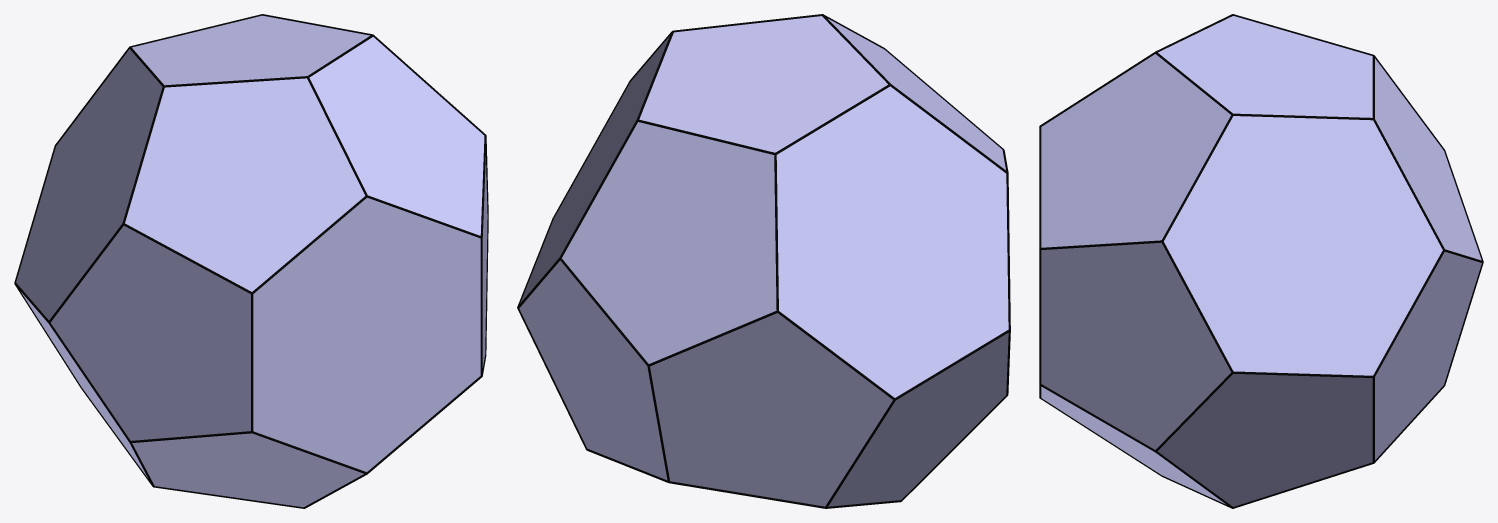
Rendered from quiz_106.dae.
3 views of the same model, side by side, from view 1: azimuth 30°, elevation 25°; view 2: azimuth 150°, elevation 25°; view 3: azimuth 270°, elevation 25° (orthographic). The views are drawn at different scales.
Visible parts, largest first — view 1: visgeom_0, geometry_edges0_0_quiz_106.off; view 2: visgeom_0, geometry_edges0_0_quiz_106.off; view 3: visgeom_0, geometry_edges0_0_quiz_106.off.
Part boxes in pixels (bbox=[...]): visgeom_0: bbox=[16, 15, 487, 507]; geometry_edges0_0_quiz_106.off: bbox=[14, 14, 488, 508]; visgeom_0: bbox=[519, 16, 1008, 506]; geometry_edges0_0_quiz_106.off: bbox=[517, 14, 1010, 508]; visgeom_0: bbox=[1041, 16, 1481, 506]; geometry_edges0_0_quiz_106.off: bbox=[1039, 14, 1483, 508].
Size of the model in its own units: 2.11 by 1.88 by 1.99.
